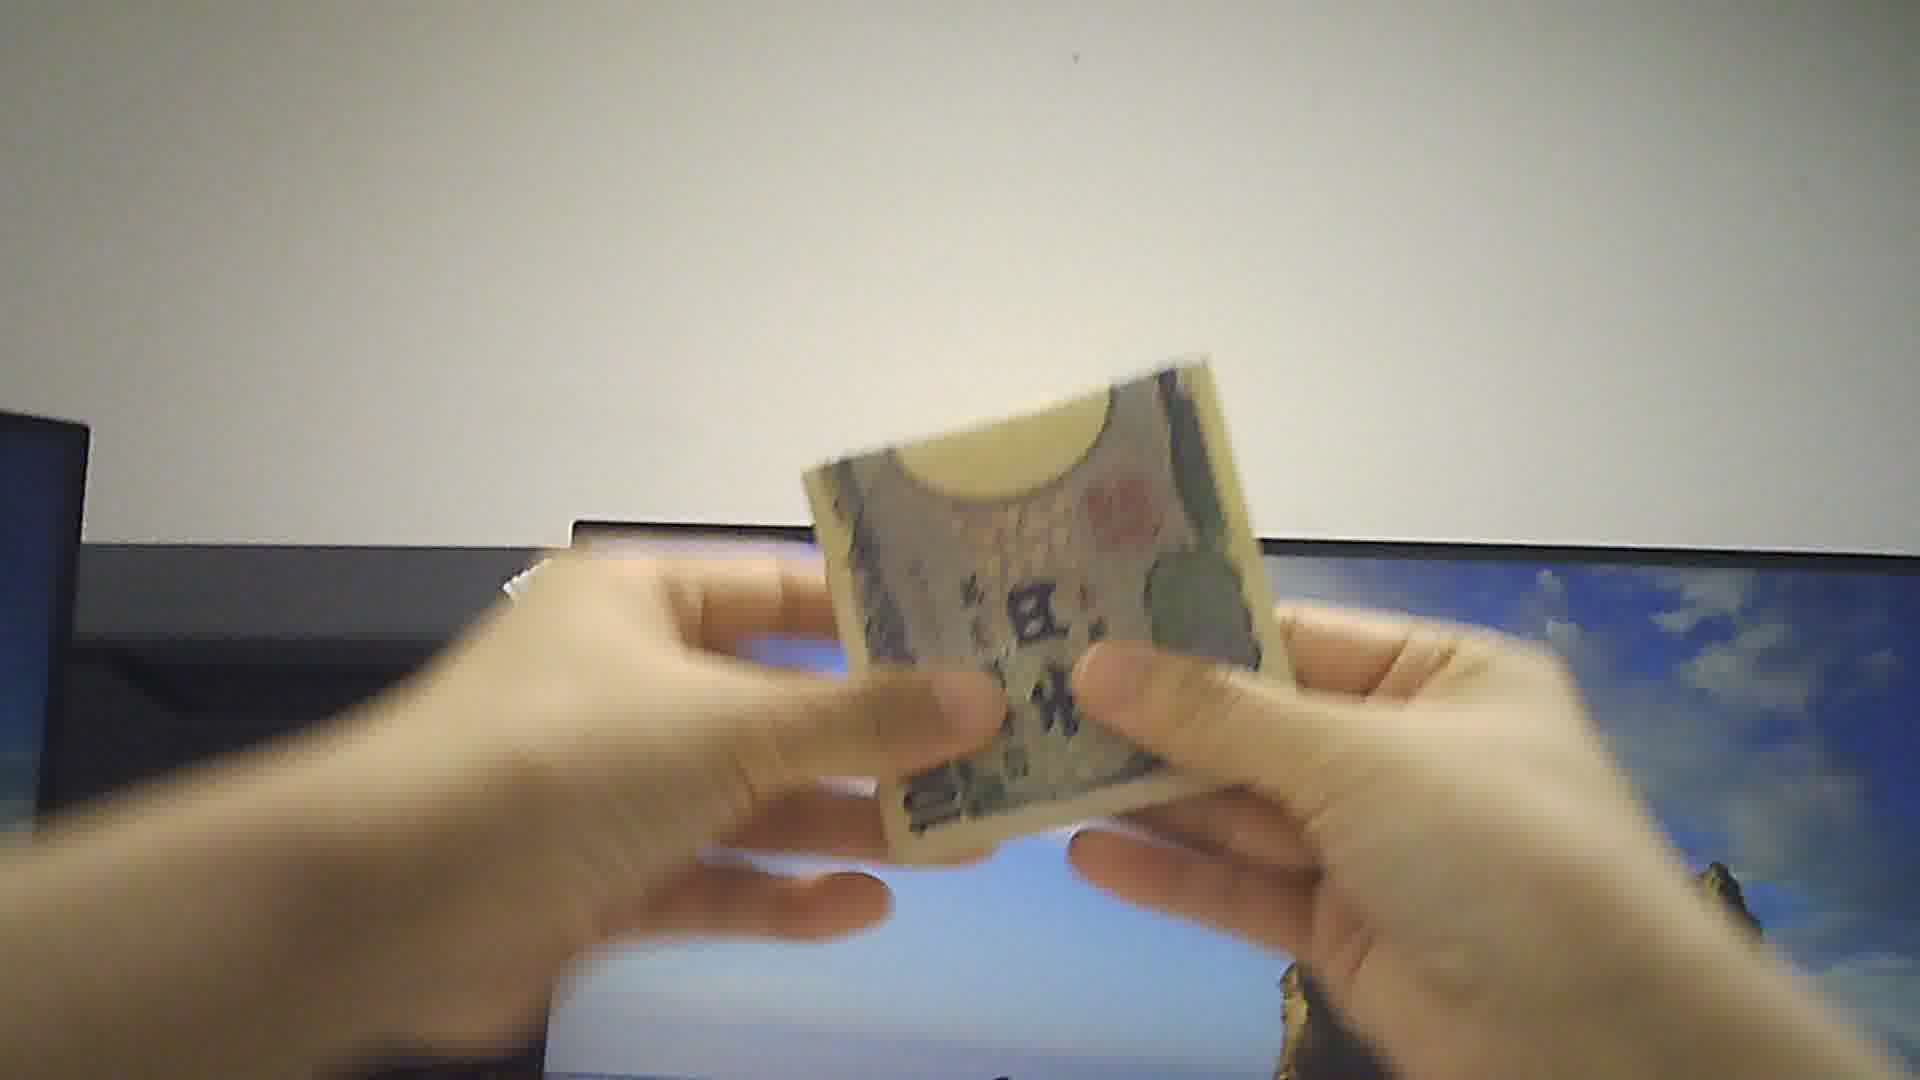1,000 Yen: (795, 353, 1304, 847)
